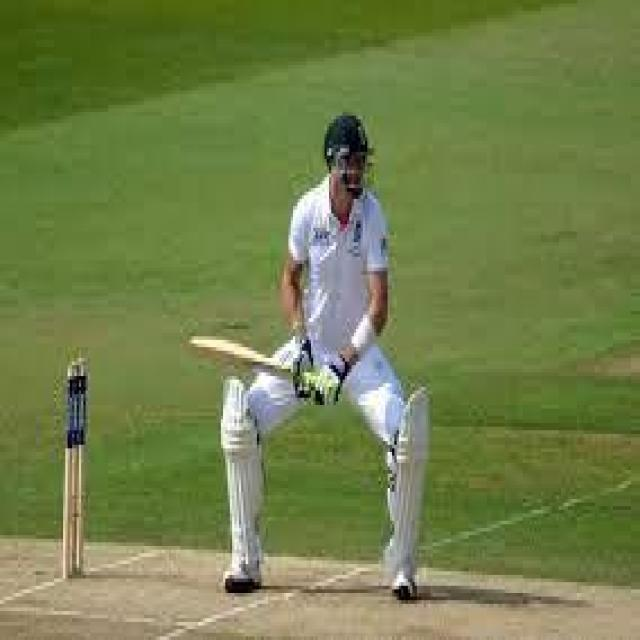bat: (188, 327, 295, 388)
toe: (182, 326, 208, 357)
